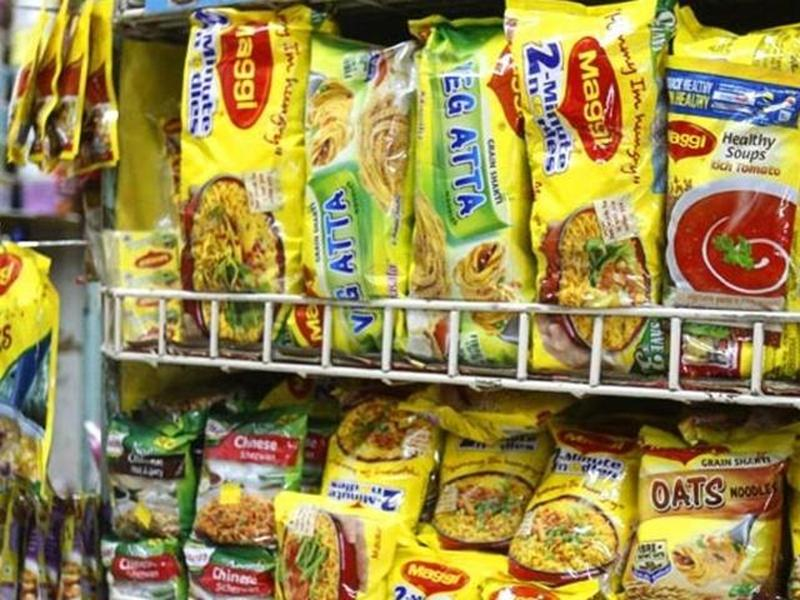maggi-family: (505, 1, 669, 369), (181, 6, 312, 346)
maggi-small: (526, 431, 639, 600)
